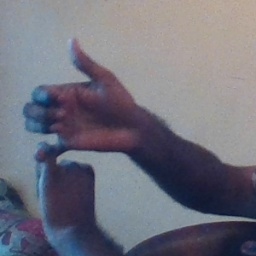S: (18, 35, 138, 213)
